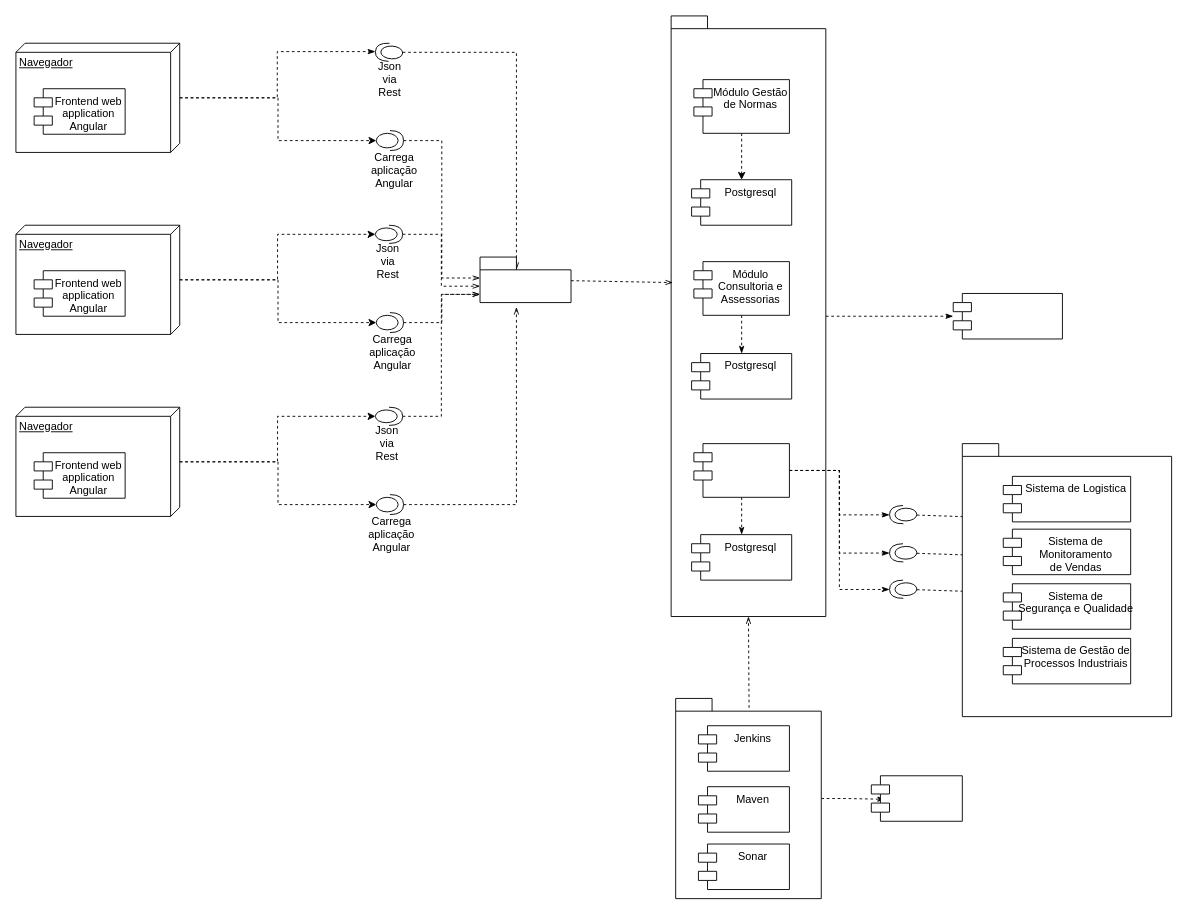
The diagram is 1188 pixels wide and 915 high, and some of its shapes have lost their labels. The box of each missing label's shape, as (x1, y1, x2, y2) in pixels:
Git: (870, 775, 962, 821)
Load Balancer: (479, 256, 571, 303)
Módulo de autenticação: (952, 293, 1062, 339)
Módulo Gestão do Processo Industrial: (693, 443, 789, 497)
